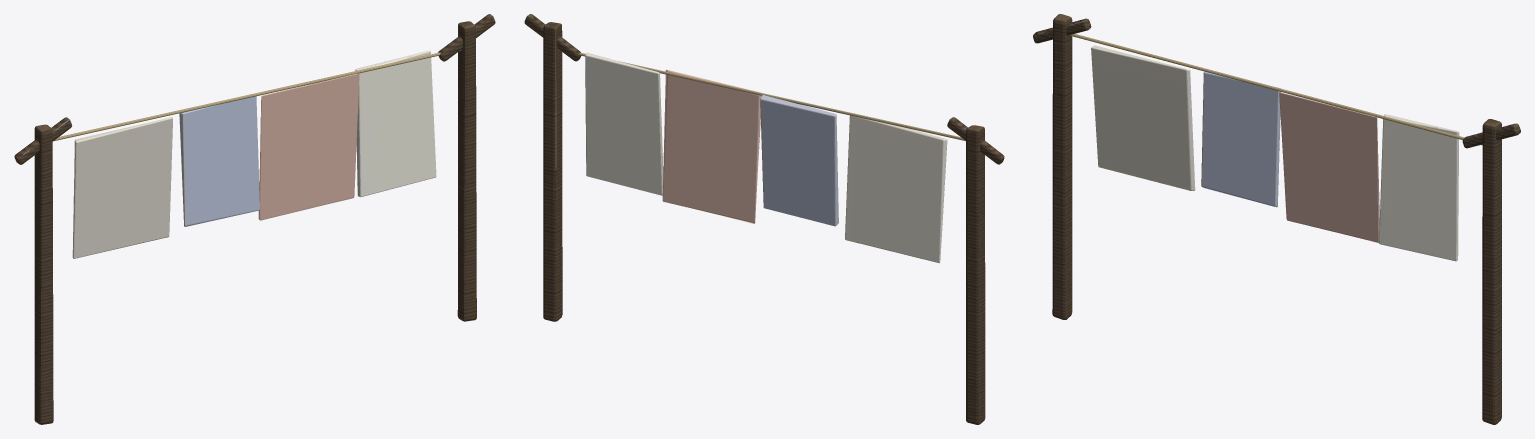
Rendered from laundry.glb.
3 renders of one model, left to right at view 1: azimuth 30°, elevation 25°; view 2: azimuth 150°, elevation 25°; view 3: azimuth 330°, elevation 25°, orthographic.
Visible parts, largest first — view 1: laundry; view 2: laundry; view 3: laundry.
Boxes of the visible parts, box(x1,y1,x2,y2) form: laundry: box(14, 14, 495, 424); laundry: box(524, 14, 1004, 424); laundry: box(1033, 14, 1520, 424).
Bounding box in the file's own units: 2.71 × 1.62 × 0.0784.
Materials: 1 (1 with a texture image).
